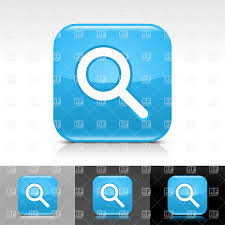searchIcon: (75, 44, 149, 120), (23, 180, 51, 209), (99, 181, 127, 210), (173, 180, 201, 209)
